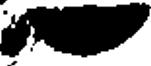Basket: (1, 2, 151, 59)
